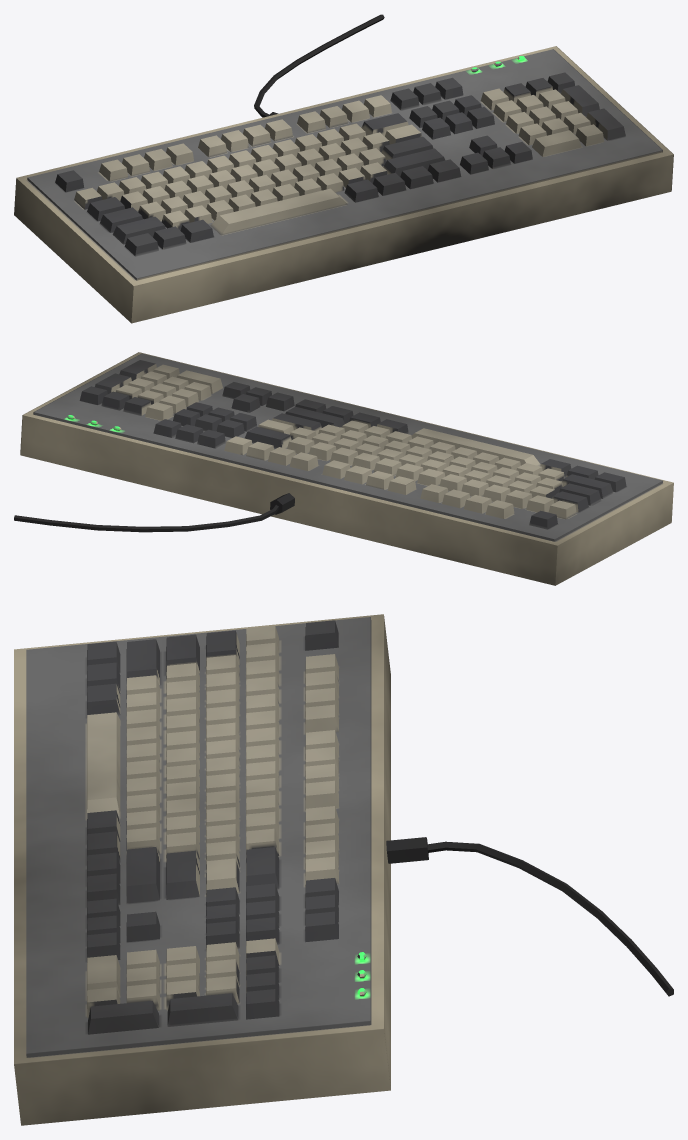
The model's file is Keyboard_low.fbx.
3 renders of one model, top to bottom at view 1: azimuth 30°, elevation 25°; view 2: azimuth 150°, elevation 25°; view 3: azimuth 270°, elevation 25°, orthographic. The views are drawn at different scales.
Visible parts, largest first — view 1: Keyboard_low; view 2: Keyboard_low; view 3: Keyboard_low.
Boxes of the visible parts, left/top/right/bottom form: Keyboard_low: left=14, top=14, right=673, bottom=323; Keyboard_low: left=14, top=352, right=673, bottom=585; Keyboard_low: left=14, top=614, right=673, bottom=1125.
Size of the model in its own units: 0.462 by 0.0598 by 0.3105.
Materials: 1 (1 with a texture image).
